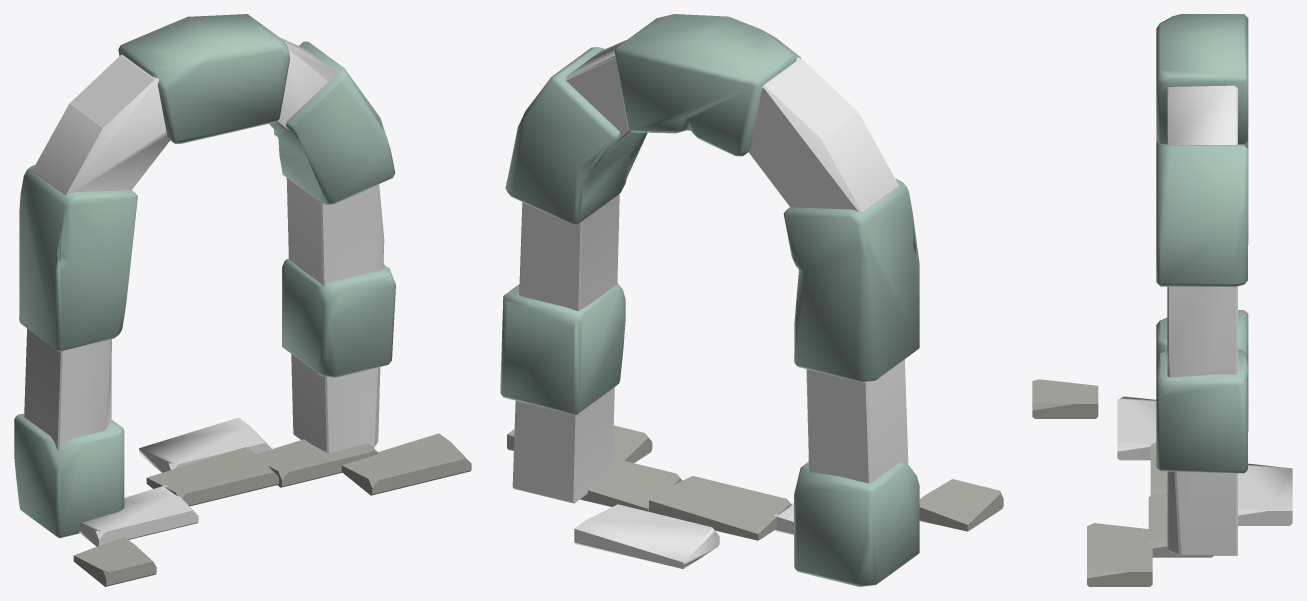
Rendered from portalRight.fbx.
3 renders of one model, left to right at view 1: azimuth 30°, elevation 25°; view 2: azimuth 150°, elevation 25°; view 3: azimuth 270°, elevation 25°, orthographic. The views are drawn at different scales.
Visible parts, largest first — view 1: PortalBlocks001, Mesh_11.001_1, Mesh_11.001_0; view 2: PortalBlocks001, Mesh_11.001_1, Mesh_11.001_0; view 3: PortalBlocks001, Mesh_11.001_1, Mesh_11.001_0.
Part boxes in pixels (x1,y1,x2,y2): PortalBlocks001: (14,14,471,586); Mesh_11.001_1: (24,37,384,452); Mesh_11.001_0: (79,417,271,546); PortalBlocks001: (500,14,1003,586); Mesh_11.001_1: (512,40,908,503); Mesh_11.001_0: (574,503,793,569); PortalBlocks001: (1032,14,1248,586); Mesh_11.001_1: (1167,85,1237,555); Mesh_11.001_0: (1117,396,1292,525).
Size of the model in its own units: 366 by 402 by 209.
